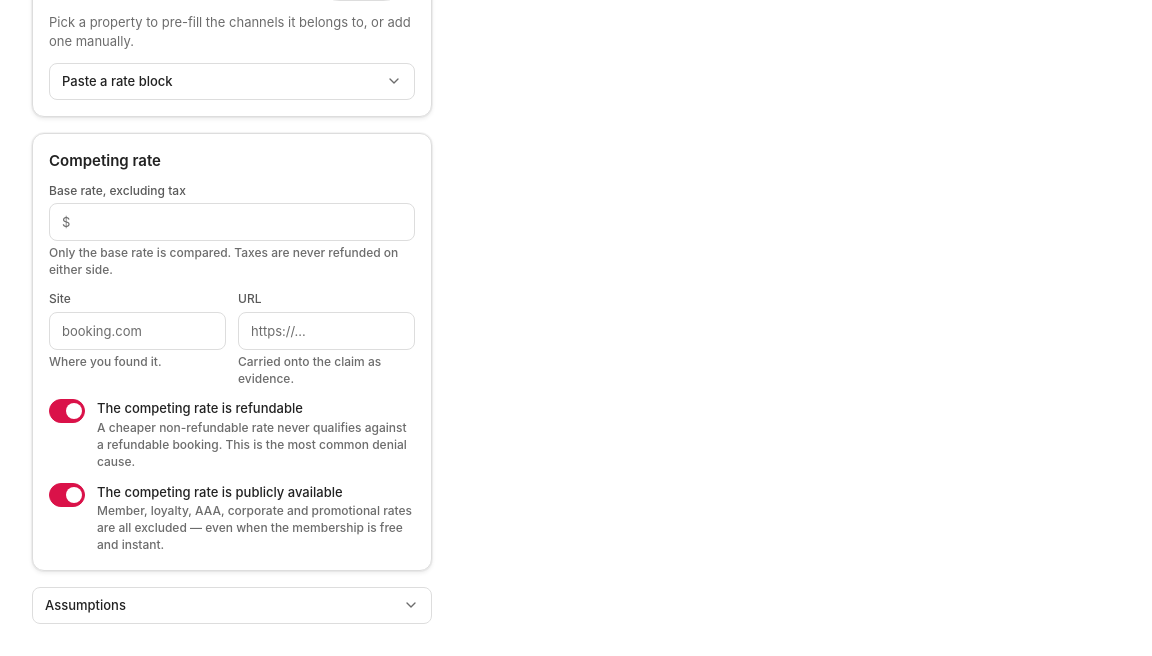
Test: CompareScreen — Defect C: SPA/RESORT realization default › auto-defaults to 60% the moment a SPA property is selected, untouched
(page scrolled)
Step 1. Click the button "Assumptions" → (85, 605), box [33,588,431,623]
(page scrolled)
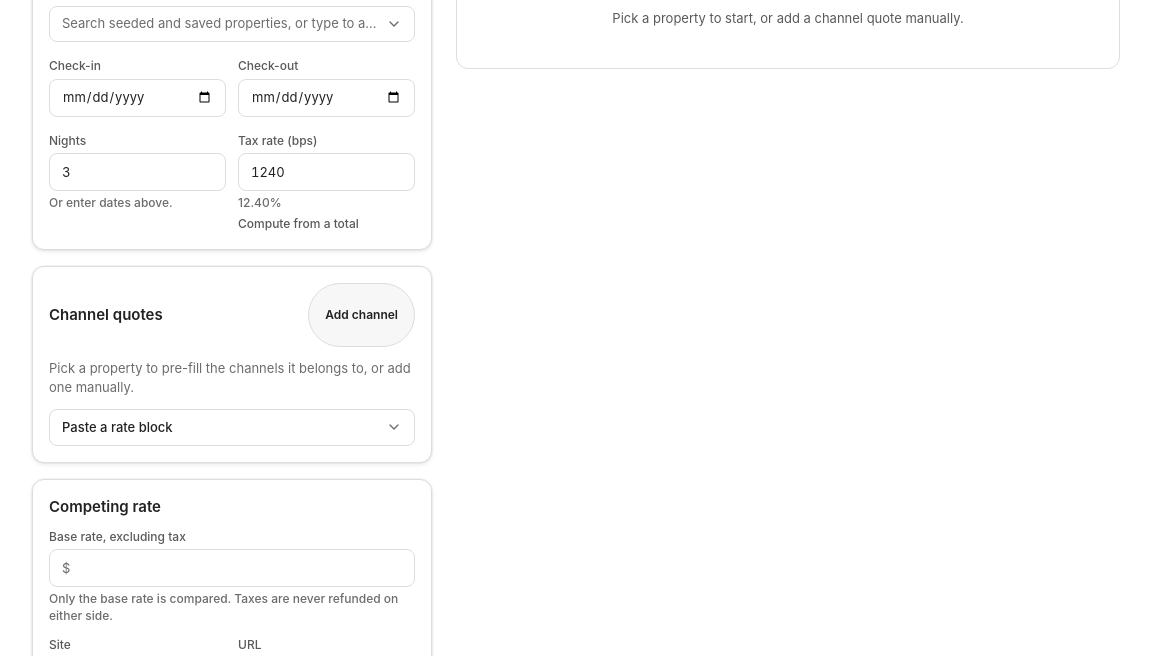
Step 2. Click the button named "Property" → (232, 24), box [49,6,415,42]
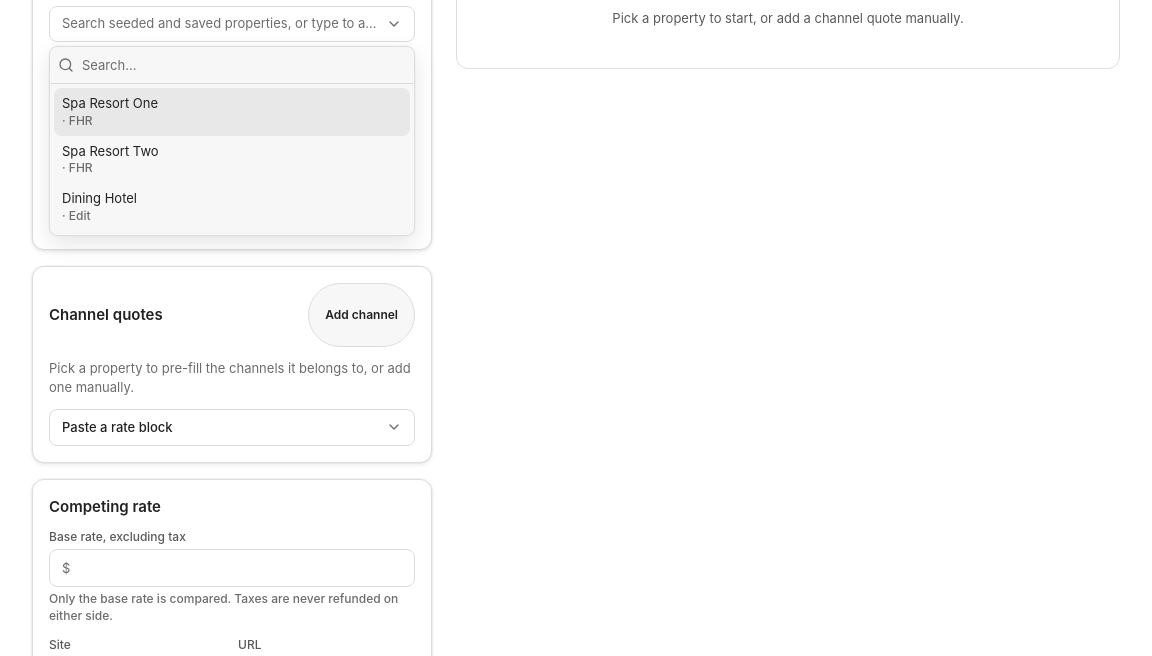
Step 3. Type "Spa Resort One" into the dropdown with placeholder "Search…" → (244, 65), box [82,47,406,83]
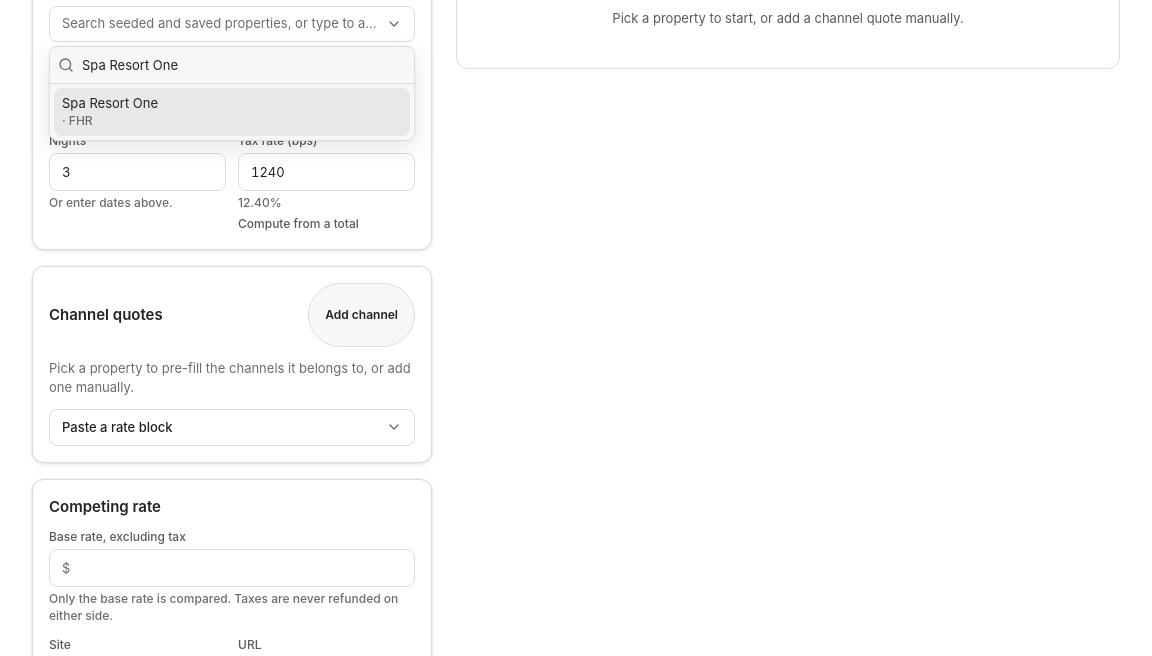
Step 4. Click the text "Spa Resort One" → (110, 103), box [62,94,158,113]
(page scrolled)
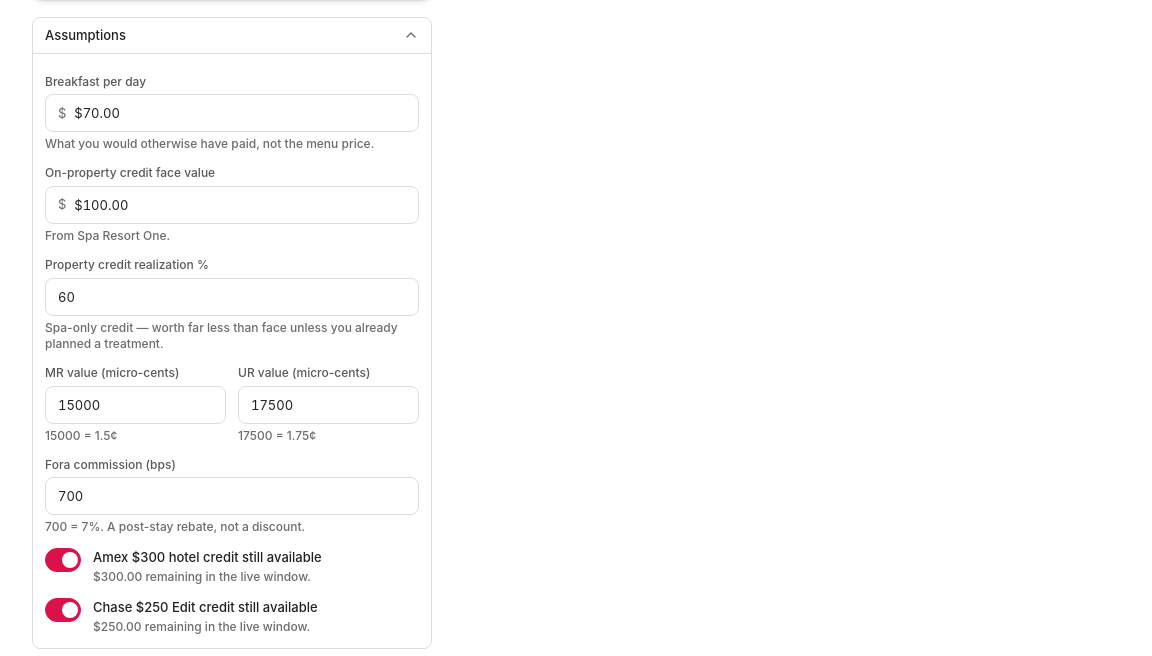
Expected: the field labelled "Property credit realization %" holds "60", [58,278,406,314]
